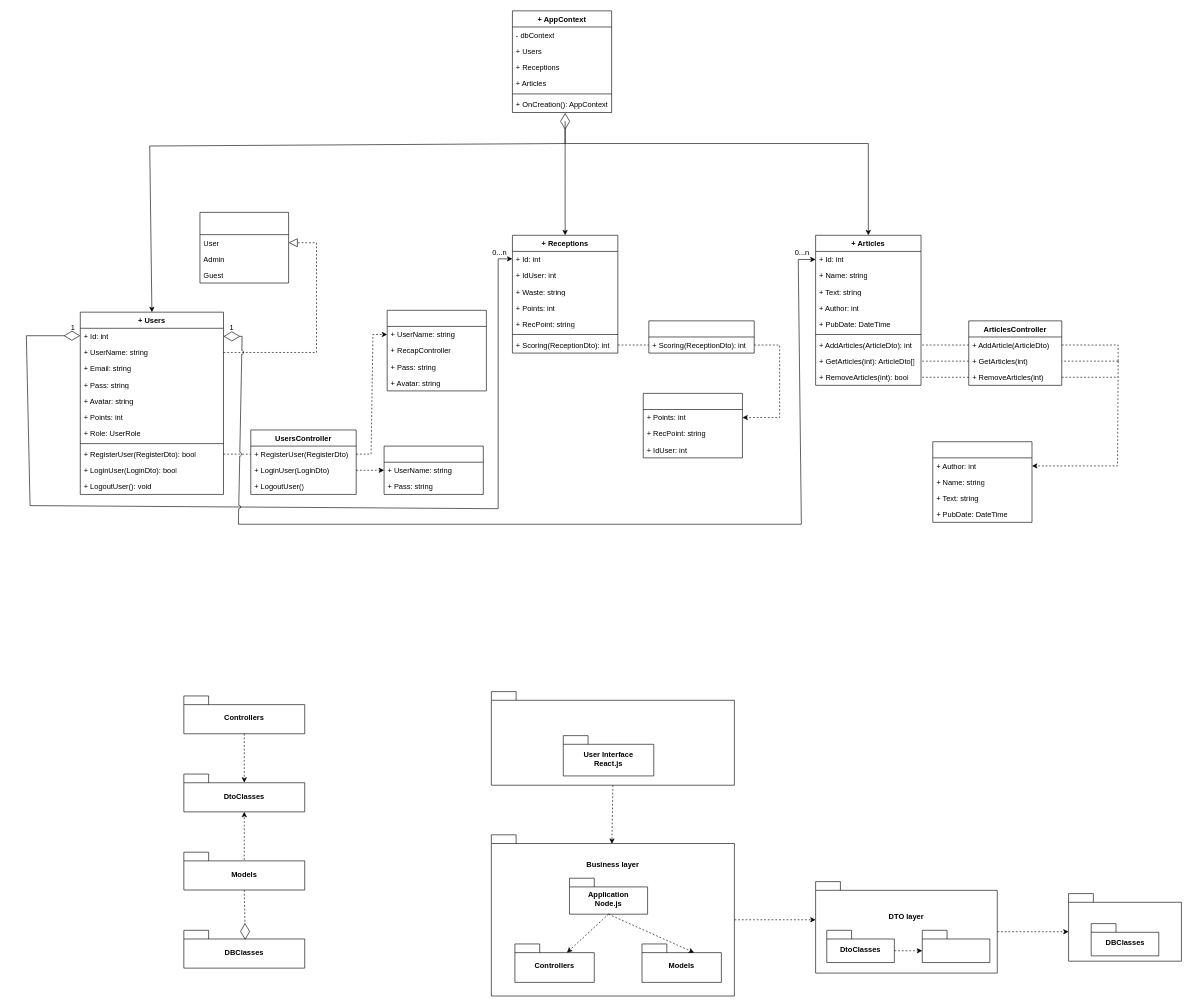
Image size: 1192x1007. Some labels were removed from this diagram. Each missing label, with the box of its shape:
+ ArticleDto: (932, 441, 1032, 522)
+ LoginDto: (383, 445, 483, 494)
+ ReceptionDto: (643, 393, 742, 458)
+ RegisterDto: (387, 310, 486, 391)
<<enum>> UserRole: (199, 212, 289, 283)
Data layer: (1068, 893, 1181, 961)
Entities: (922, 930, 990, 963)
Presentation layer: (491, 691, 734, 785)
ReceptionsController: (648, 320, 754, 353)
